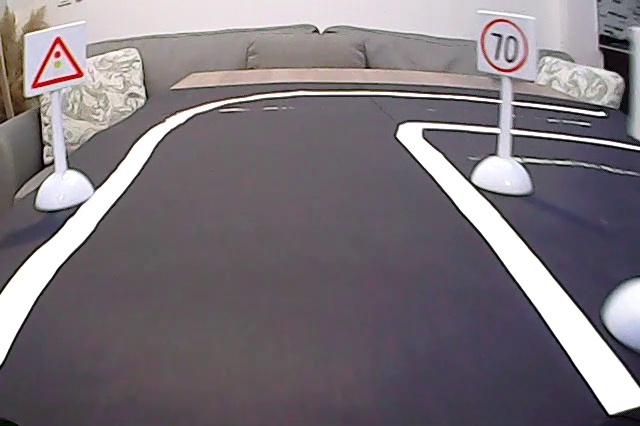red light: (23, 35, 91, 93)
speed limit 70: (480, 13, 534, 76)
